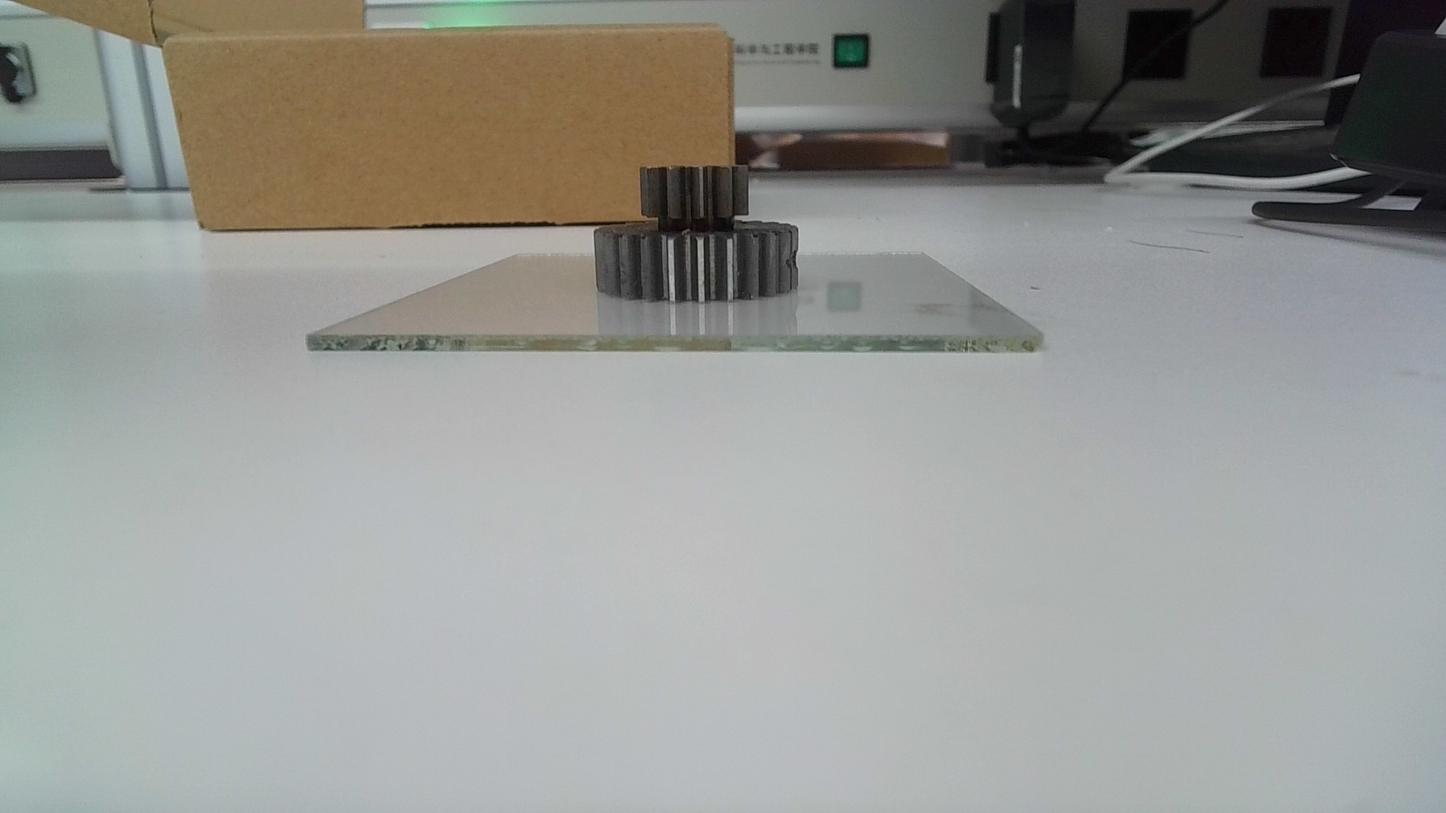gear: (593, 164, 802, 307)
